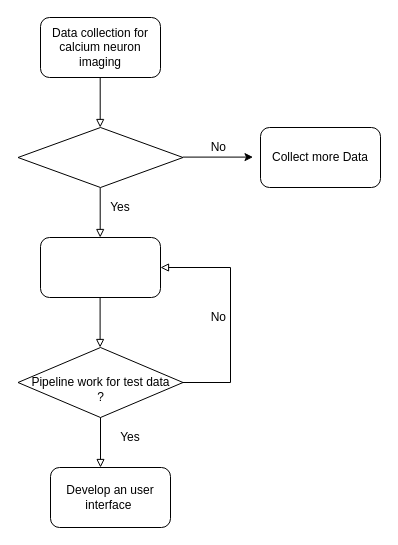
Image size: 398x545. Some labels were removed from this diagram. The shapes that lost their labels are listed below. From the top down, each one's centre as x and y in pixels, then its label:
point (100, 157): Enough Data ?
point (100, 267): Develop a segmentation algorithm to segment the activated neuron
